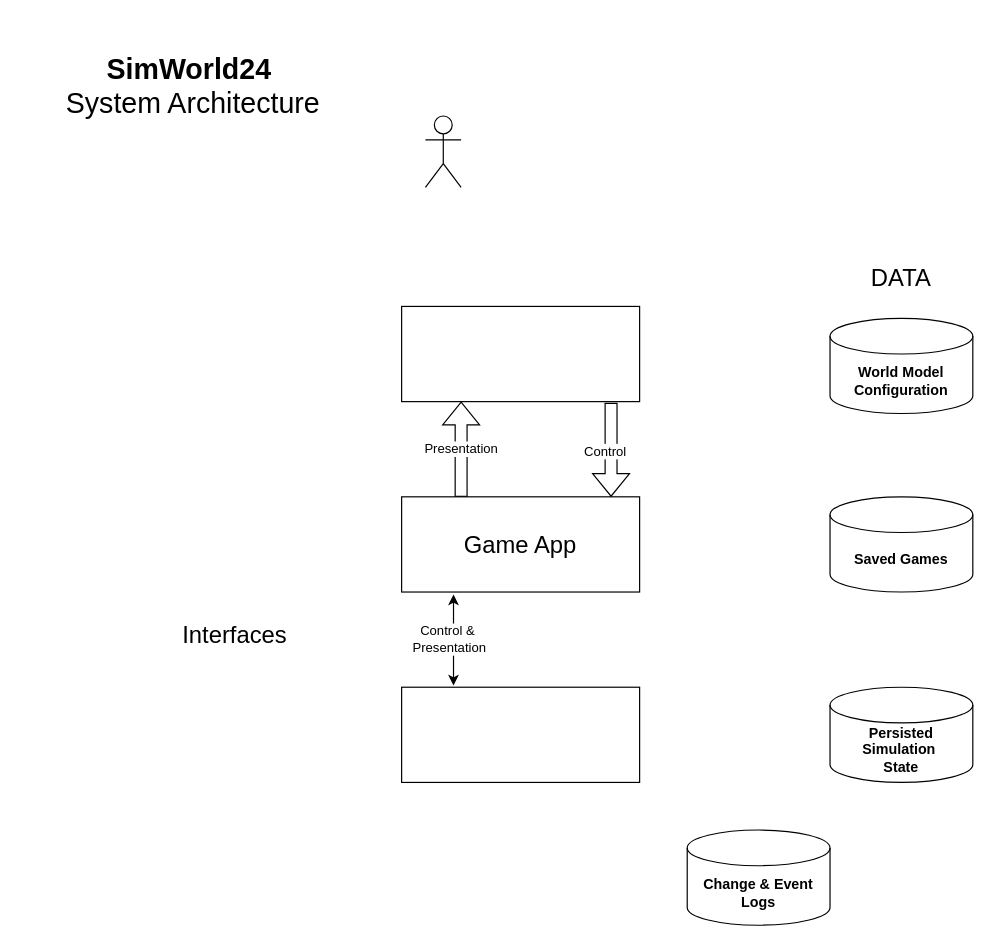
This 994x946 diagram has some shape labels left out. The shapes that lost their labels are listed below. From the top down, each one's centre as x and y in pixels, then its label:
At point (442, 151): "Player".
At point (520, 353): "User Interface".
At point (520, 734): "SimEngine".
